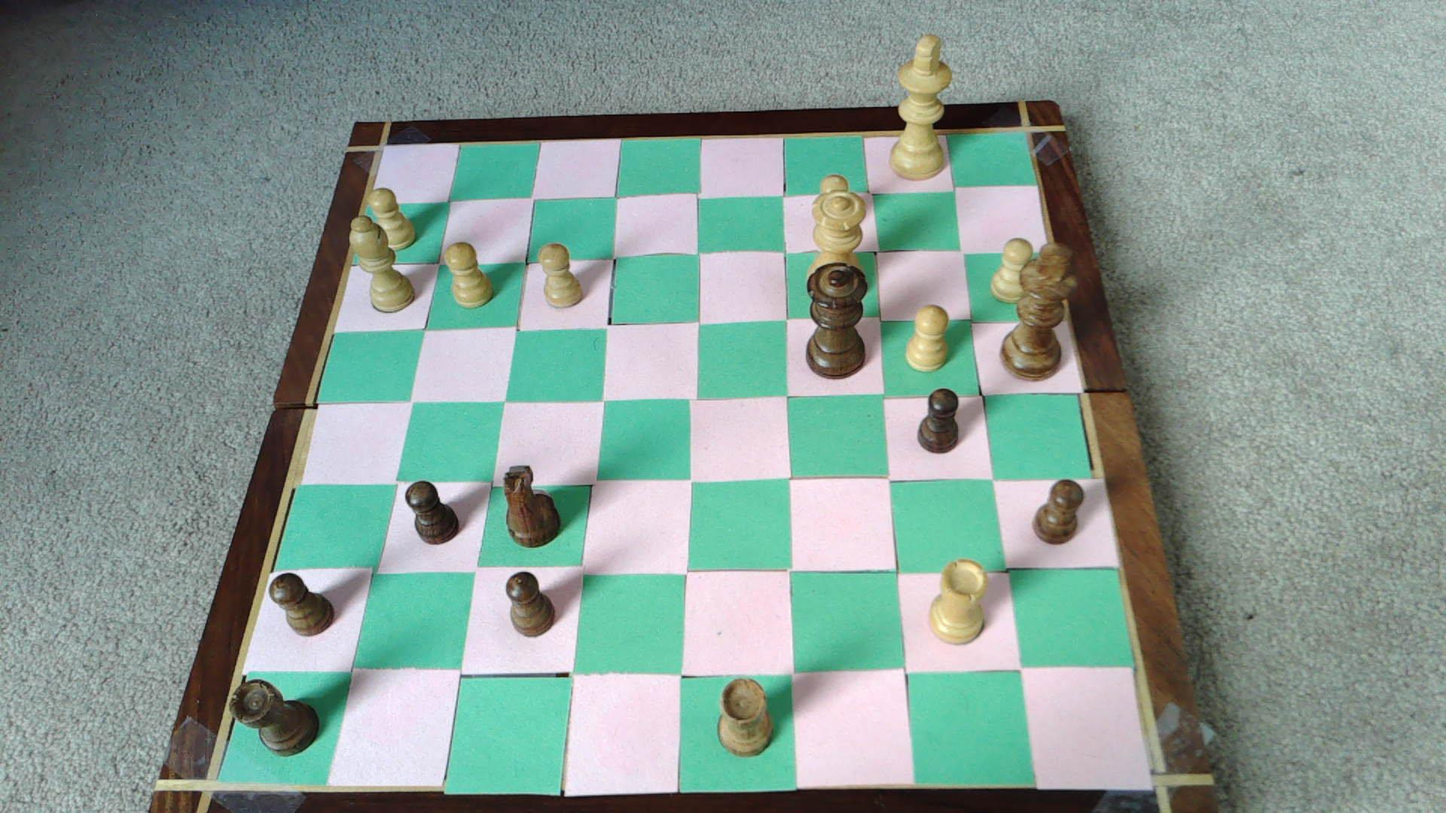dark_piece: (1001, 247, 1075, 380), (807, 264, 866, 377), (232, 680, 319, 754), (503, 465, 560, 547), (718, 677, 773, 755), (270, 573, 334, 635), (406, 481, 458, 543), (1032, 480, 1083, 543), (506, 572, 555, 636), (918, 388, 959, 452)
white_piece: (889, 33, 954, 180), (349, 214, 415, 312), (810, 190, 866, 295), (930, 559, 986, 643), (363, 188, 416, 250), (444, 242, 494, 307), (539, 242, 584, 307), (906, 305, 949, 371), (990, 238, 1032, 304), (817, 173, 852, 248)
